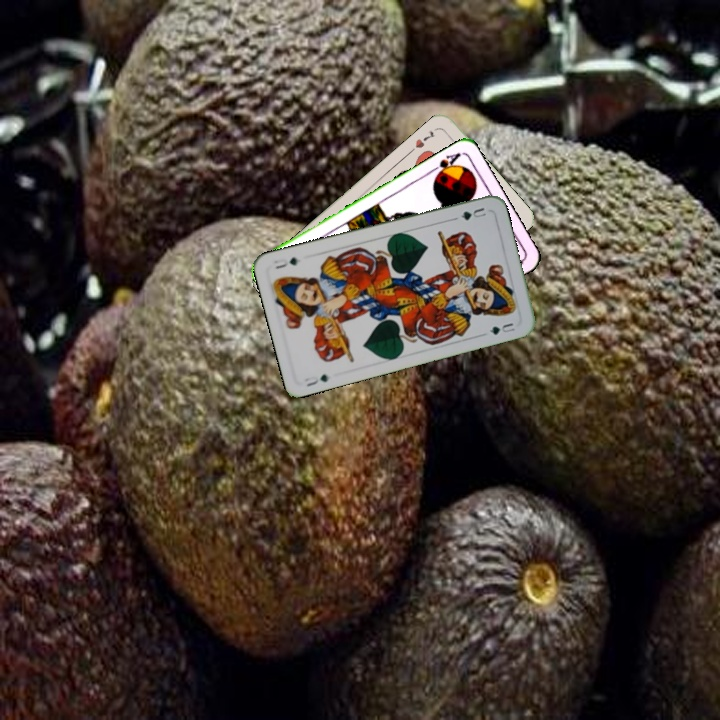GU: (457, 203, 489, 223), (300, 370, 331, 389)
H7: (411, 126, 438, 151)
SA: (426, 149, 463, 181)
